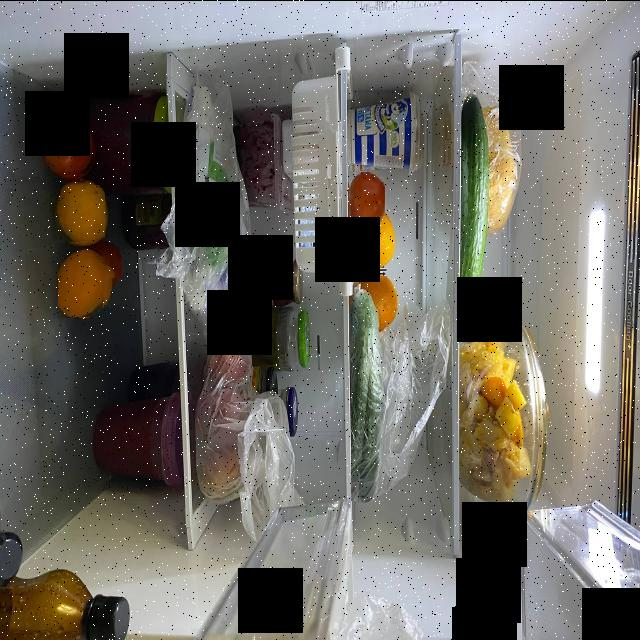Apple: (199, 373, 250, 439), (201, 436, 247, 496), (204, 344, 252, 392)
Cucumber: (458, 88, 489, 314), (351, 295, 376, 501)
Orange: (58, 246, 109, 318), (52, 185, 105, 243), (360, 216, 397, 268), (364, 276, 398, 328)
Tomato: (43, 111, 96, 178), (351, 172, 385, 232), (97, 238, 121, 278)
